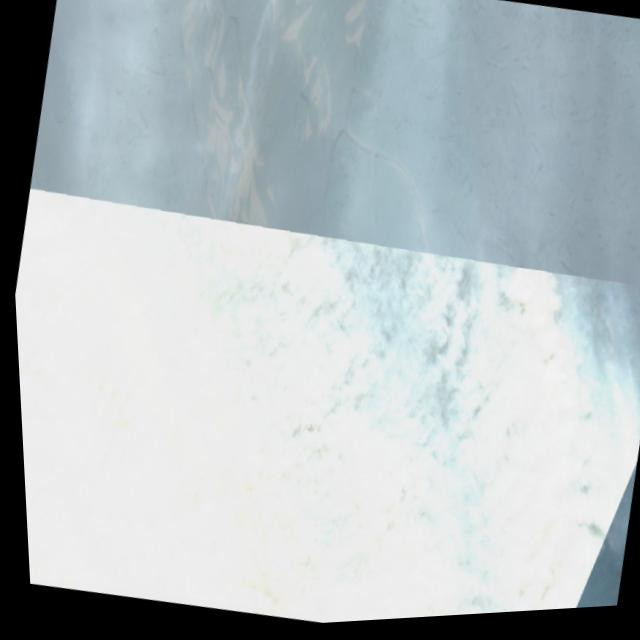fire: (574, 319, 640, 463)
